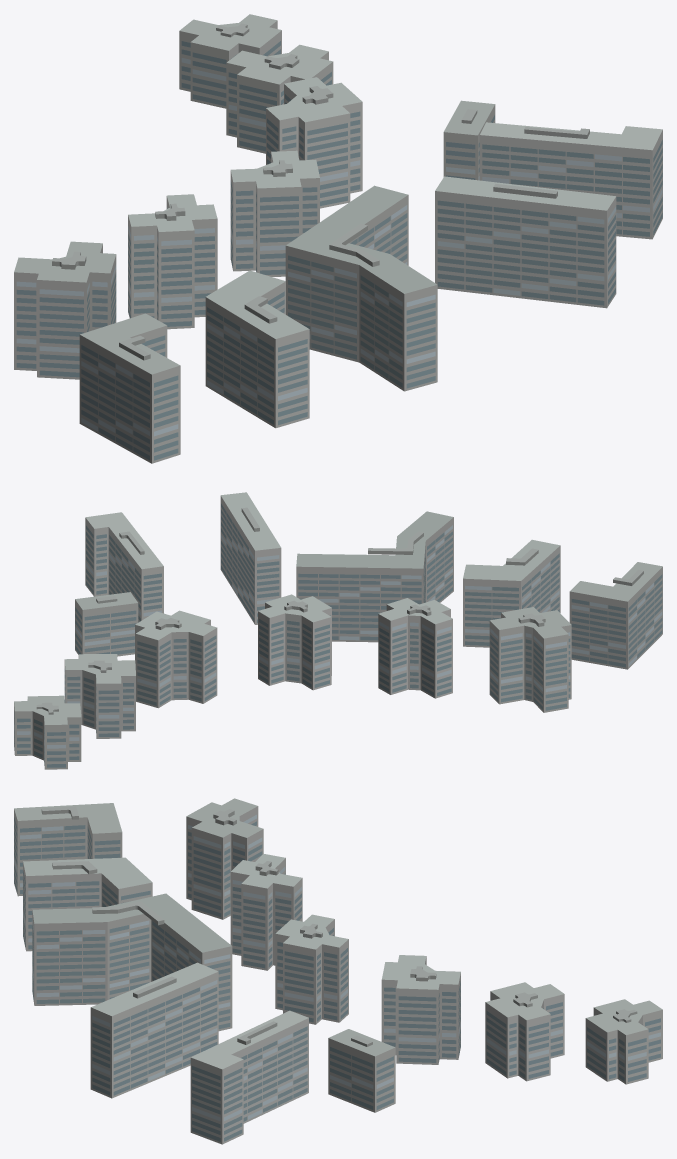
Rendered from apt-a15870701.glb.
The picture shows the model from 3 angles, top to bottom: view 1: azimuth 30°, elevation 25°; view 2: azimuth 150°, elevation 25°; view 3: azimuth 270°, elevation 25°; orthographic projection. The views are drawn at different scales.
Parts seen in each view (by area): view 1: apt-a15870701; view 2: apt-a15870701; view 3: apt-a15870701.
Part boxes in pixels (x1,y1,x2,y2): apt-a15870701: [14, 14, 662, 463]; apt-a15870701: [14, 492, 662, 769]; apt-a15870701: [14, 798, 662, 1144].
Size of the model in its own units: 232 by 35 by 239.
